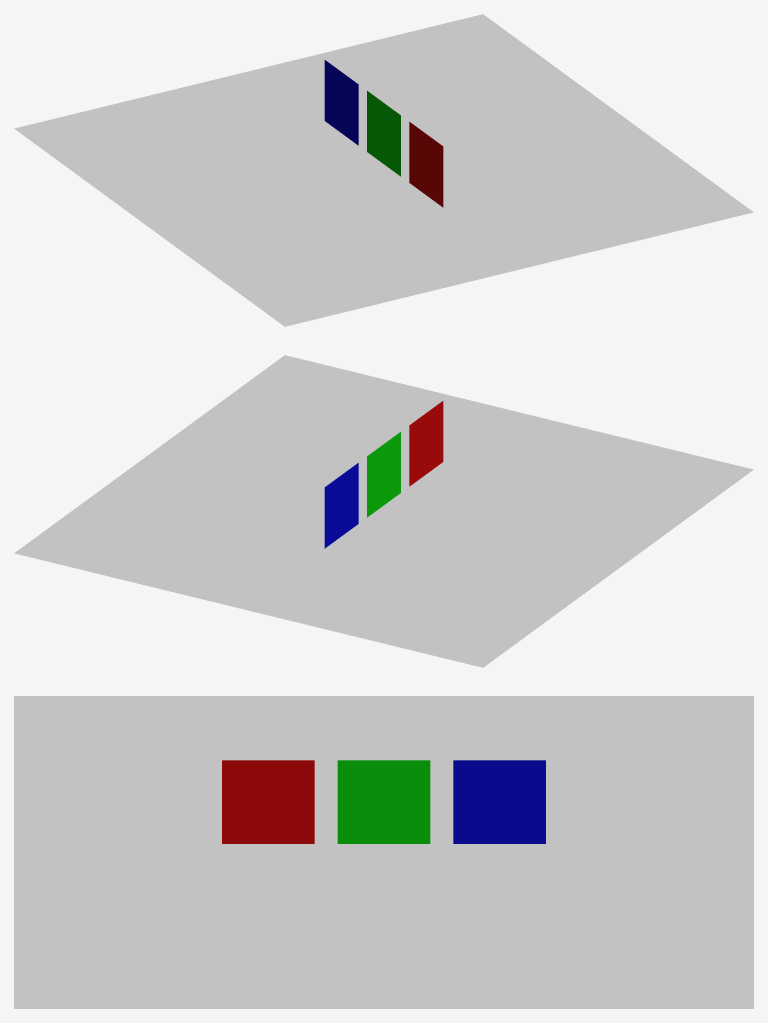
File: TestBakePlanes.fbx
3 renders of one model, top to bottom at view 1: azimuth 30°, elevation 25°; view 2: azimuth 150°, elevation 25°; view 3: azimuth 270°, elevation 25°, orthographic. The views are drawn at different scales.
Visible parts, largest first — view 1: Plane.001; view 2: Plane.001; view 3: Plane.001.
Boxes of the visible parts, x1=… form: Plane.001: x1=14, y1=14, x2=753, y2=326; Plane.001: x1=14, y1=355, x2=753, y2=667; Plane.001: x1=14, y1=696, x2=753, y2=1008.
Bounding box in the file's own units: 16 × 16 × 2.2.
